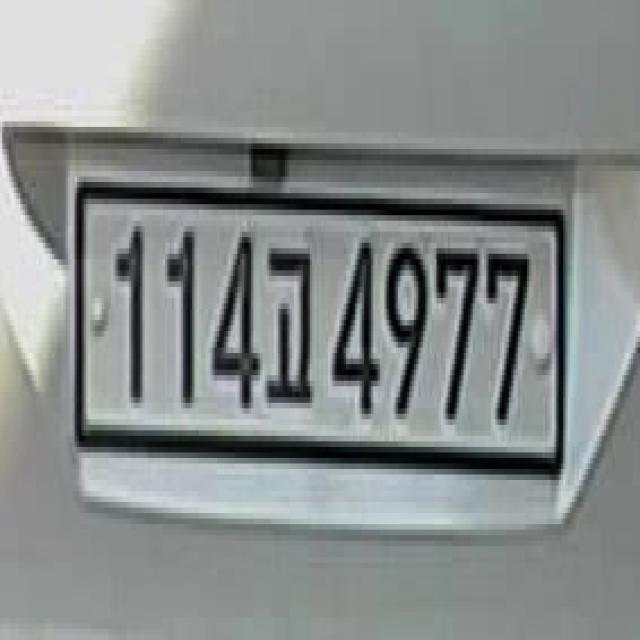illegal_plate: (75, 162, 563, 500)
